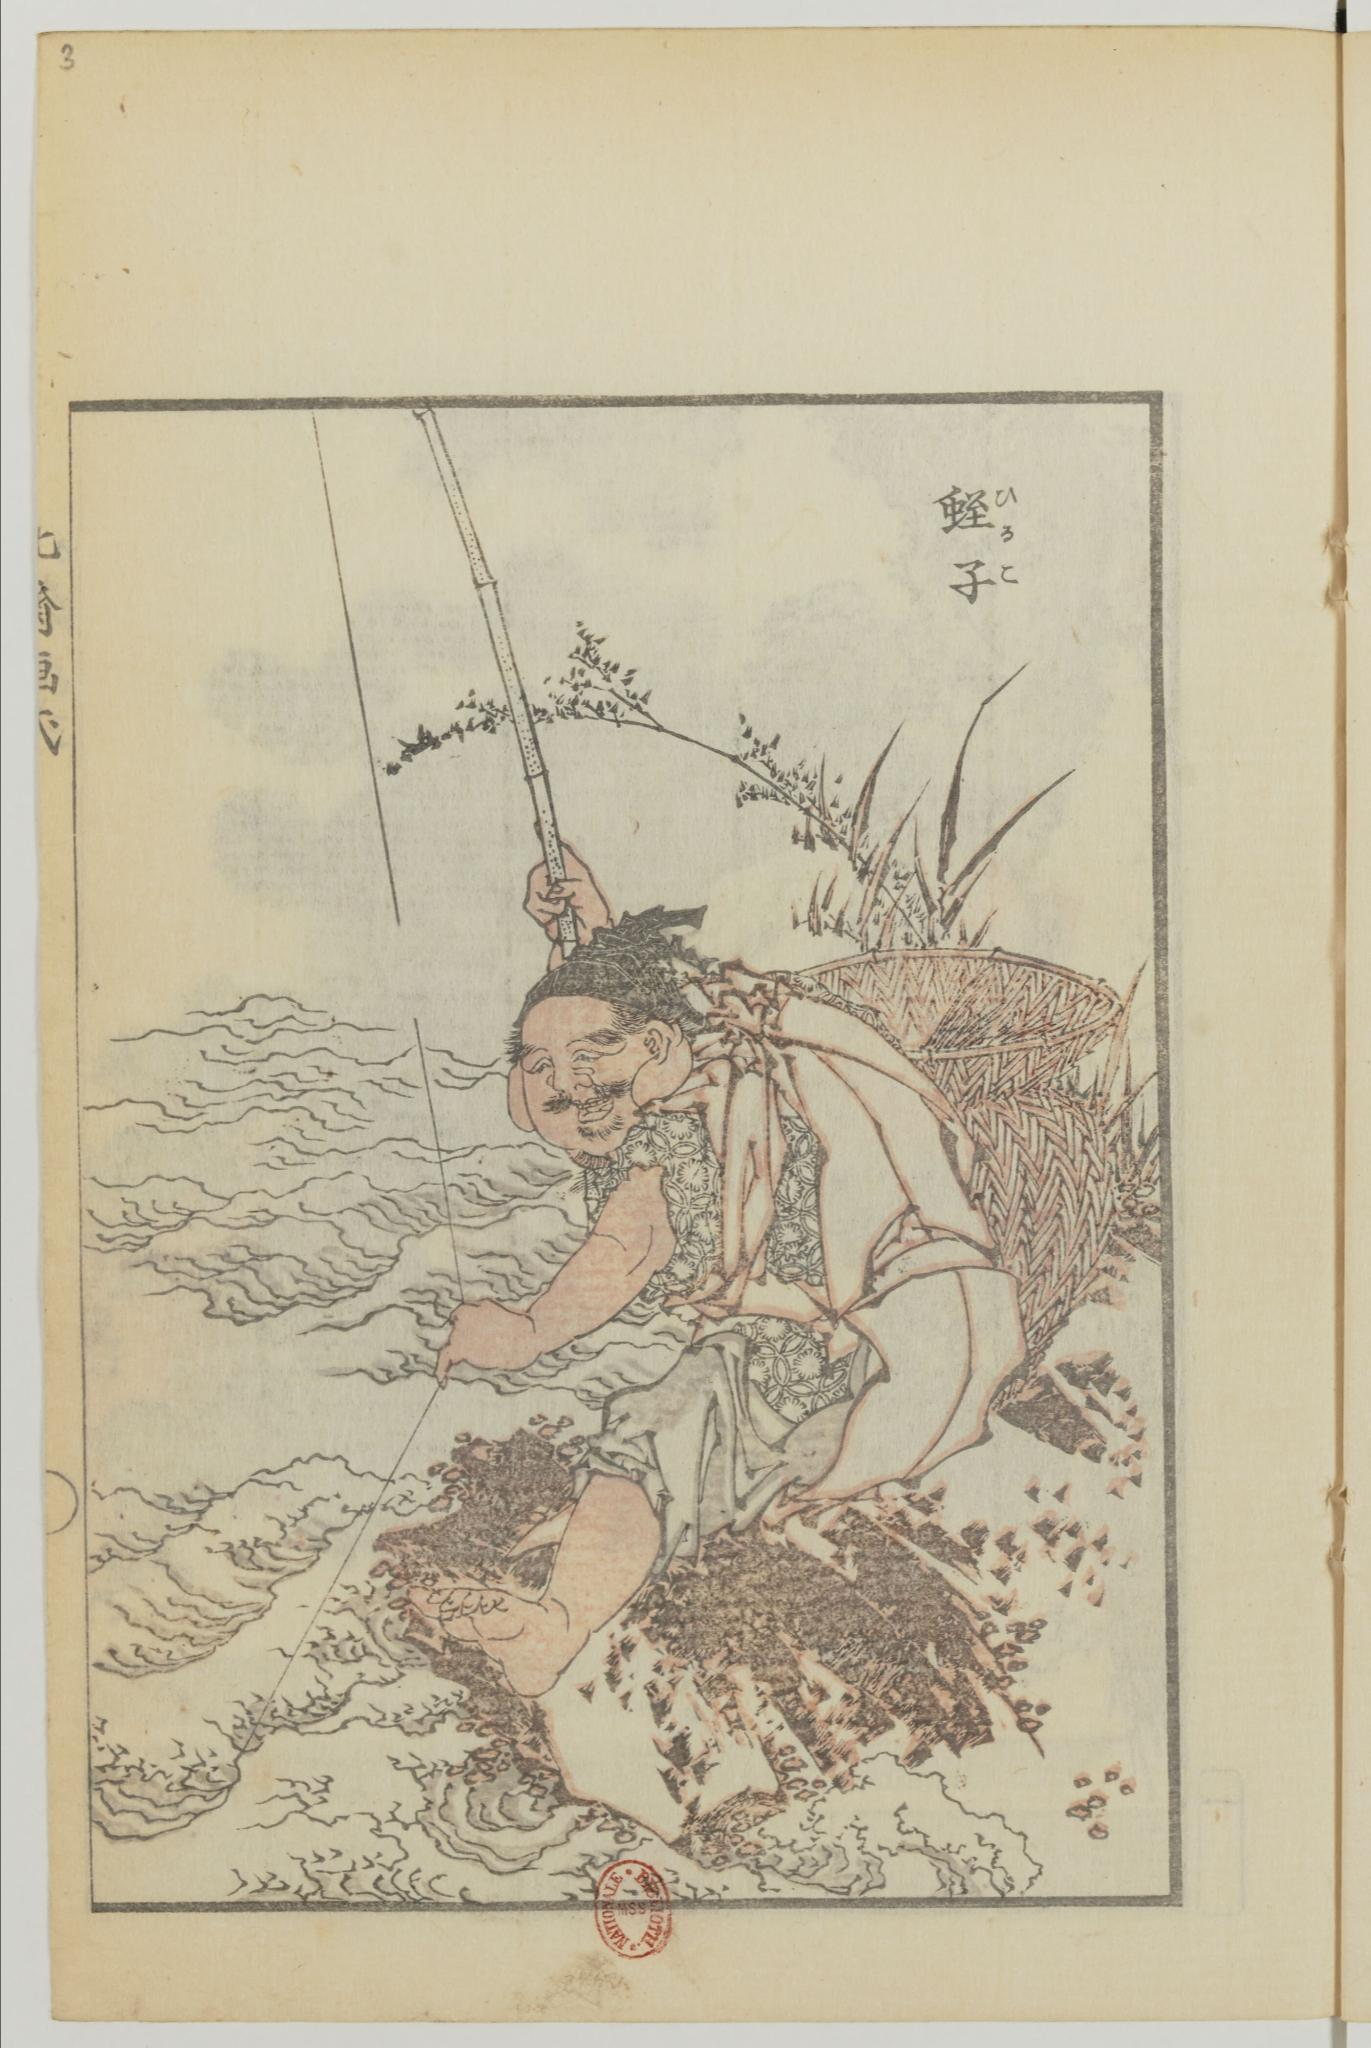MainZone-Character: (932, 471, 1022, 545), (936, 548, 1028, 613)
MainZone-Ruby: (992, 485, 1019, 543), (995, 554, 1024, 586)
